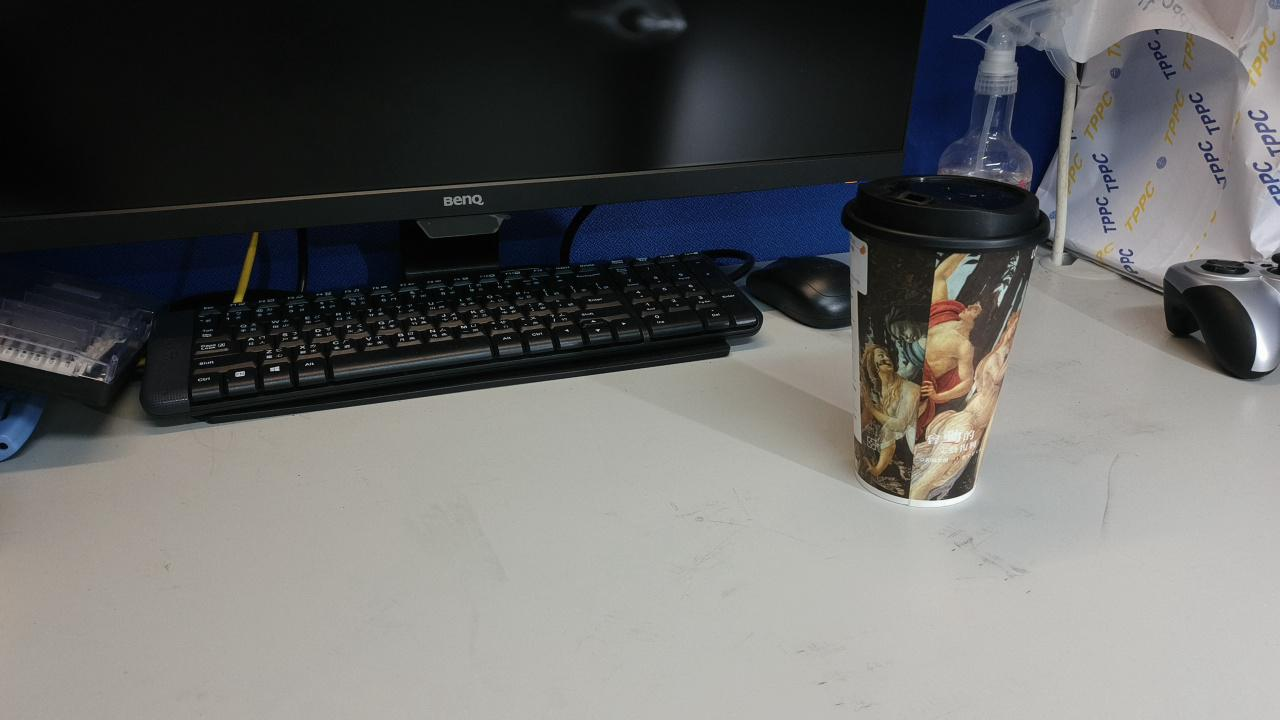long: (787, 536, 1204, 681)
